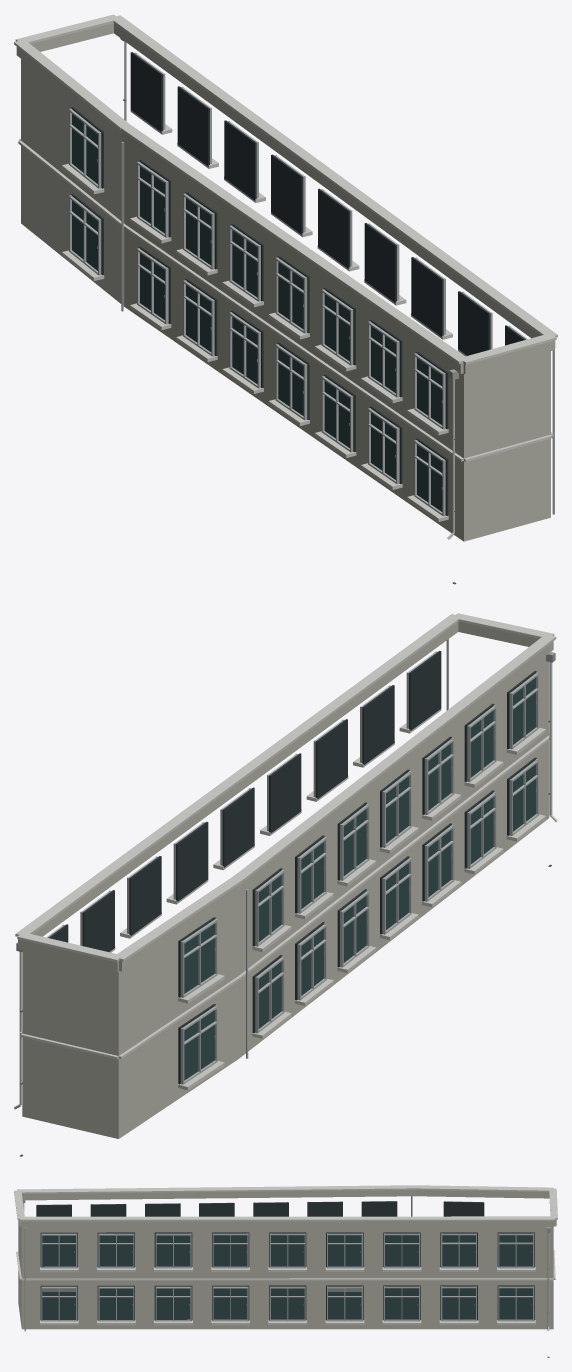
Rendered from osm_way_224990427.glb.
3 renders of one model, top to bottom at view 1: azimuth 30°, elevation 25°; view 2: azimuth 150°, elevation 25°; view 3: azimuth 270°, elevation 25°, orthographic. The views are drawn at different scales.
Visible parts, largest first — view 1: Architecture | 连廊, Windows and facade details | 连廊, Roof services | 连廊, EXTERIOR::osm_way_224990427::rainwater and roof service deta; view 2: Architecture | 连廊, Windows and facade details | 连廊, Roof services | 连廊, EXTERIOR::osm_way_224990427::rainwater and roof service deta; view 3: Architecture | 连廊, Windows and facade details | 连廊, Roof services | 连廊, EXTERIOR::osm_way_224990427::rainwater and roof service deta, EXTERIOR::osm_way_224990427::native pane seals and hardware.
Boxes of the visible parts, left/top/right/bottom form: Architecture | 连廊: left=16, top=23, right=555, bottom=541; Windows and facade details | 连廊: left=62, top=52, right=554, bottom=521; Roof services | 连廊: left=14, top=14, right=557, bottom=364; EXTERIOR::osm_way_224990427::rainwater and roof service deta: left=120, top=38, right=458, bottom=584; Architecture | 连廊: left=18, top=621, right=553, bottom=1138; Windows and facade details | 连廊: left=46, top=639, right=545, bottom=1090; Roof services | 连廊: left=15, top=613, right=556, bottom=962; EXTERIOR::osm_way_224990427::rainwater and roof service deta: left=14, top=652, right=557, bottom=1156; Architecture | 连廊: left=16, top=1190, right=556, bottom=1329; Windows and facade details | 连廊: left=24, top=1196, right=535, bottom=1331; Roof services | 连廊: left=14, top=1185, right=557, bottom=1221; EXTERIOR::osm_way_224990427::rainwater and roof service deta: left=22, top=1200, right=550, bottom=1357; EXTERIOR::osm_way_224990427::native pane seals and hardware: left=42, top=1251, right=531, bottom=1305.
Size of the model in its own units: 5.45 by 9.37 by 33.46.
